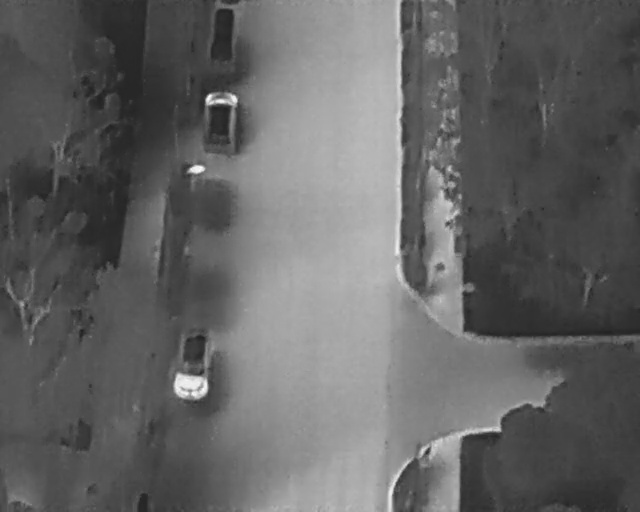Car: (171, 326, 214, 403), (198, 89, 242, 153), (206, 5, 238, 63)
